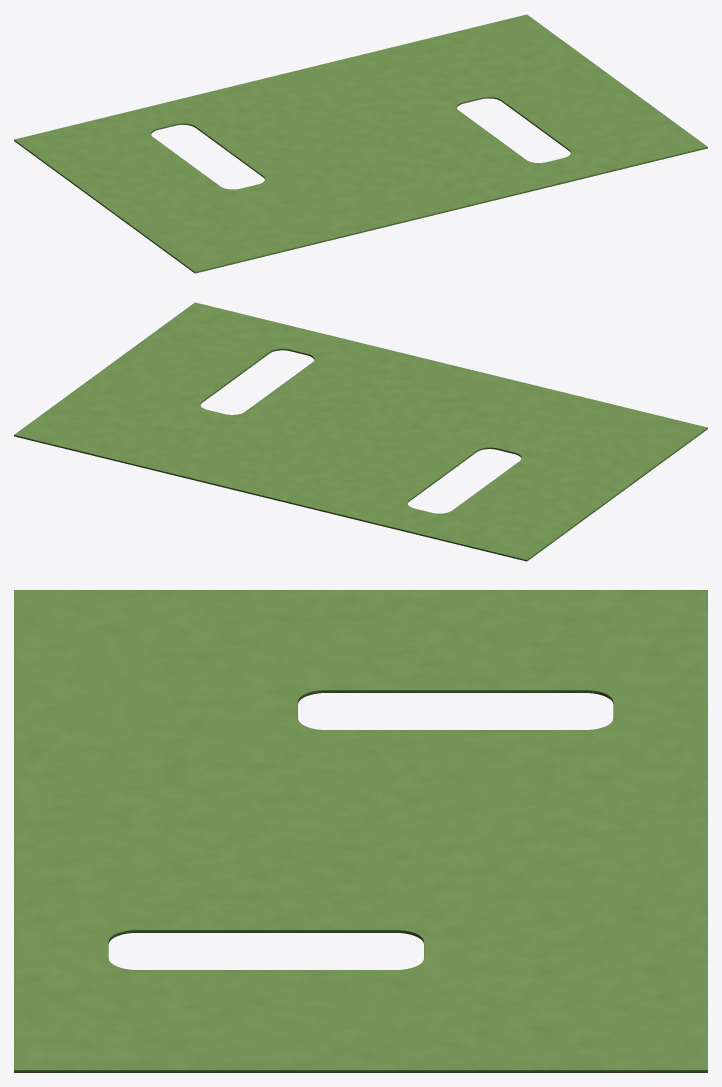
The picture shows the model from 3 angles, top to bottom: view 1: azimuth 30°, elevation 25°; view 2: azimuth 150°, elevation 25°; view 3: azimuth 270°, elevation 25°; orthographic projection. The views are drawn at different scales.
Visible parts, largest first — view 1: HORNEADO_suelo; view 2: HORNEADO_suelo; view 3: HORNEADO_suelo.
Boxes of the visible parts, x1,y1,x2,y2 form: HORNEADO_suelo: (14, 14, 707, 273); HORNEADO_suelo: (14, 302, 707, 561); HORNEADO_suelo: (14, 590, 707, 1072).
Size of what is drawn, in the model's own units: 36 by 0.1 by 22.
Materials: 1 (1 with a texture image).
